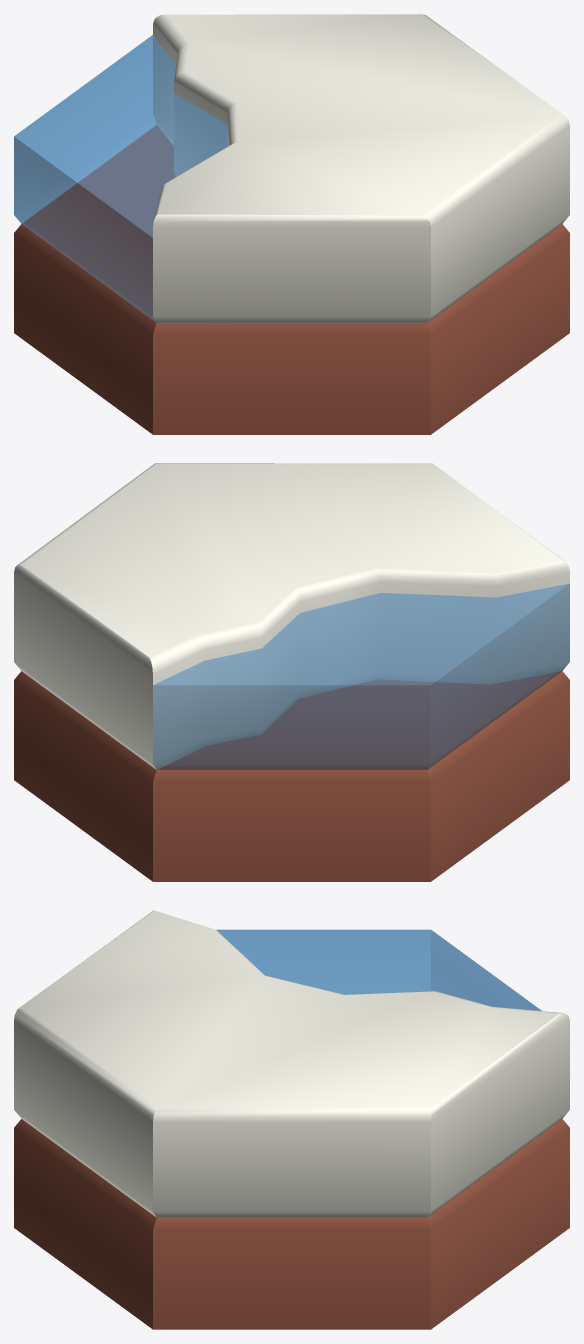
File: snow_hex_waterD_details.fbx
The picture shows the model from 3 angles, top to bottom: view 1: azimuth 30°, elevation 25°; view 2: azimuth 150°, elevation 25°; view 3: azimuth 270°, elevation 25°; orthographic projection.
Visible parts, largest first — view 1: hex_forest_waterD_detail; view 2: hex_forest_waterD_detail; view 3: hex_forest_waterD_detail.
Part boxes in pixels (box(x1,y1,x2,y2)): hex_forest_waterD_detail: box(14, 14, 569, 434); hex_forest_waterD_detail: box(14, 463, 569, 881); hex_forest_waterD_detail: box(14, 910, 569, 1329).
Bounding box in the file's own units: 200 × 100 × 231.
